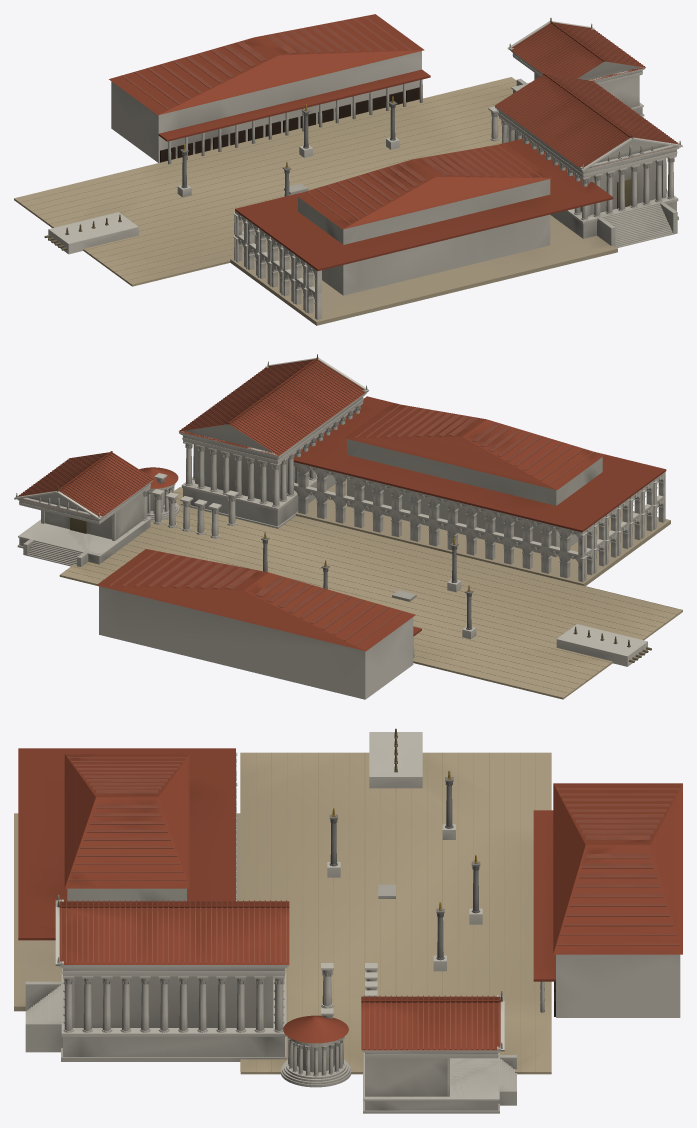
The model's file is roman-forum.glb.
The picture shows the model from 3 angles, top to bottom: view 1: azimuth 30°, elevation 25°; view 2: azimuth 150°, elevation 25°; view 3: azimuth 270°, elevation 25°; orthographic projection. The views are drawn at different scales.
Visible parts, largest first — view 1: p2_roofs, p0_paving, p1_basilicas; view 2: p2_roofs, p0_paving, p1_basilicas; view 3: p0_paving, p2_roofs, p1_basilicas.
Part boxes in pixels (left/top/right/bottom): p2_roofs: left=109, top=14, right=682, bottom=270; p0_paving: left=14, top=77, right=678, bottom=325; p1_basilicas: left=44, top=51, right=676, bottom=319; p2_roofs: left=14, top=354, right=666, bottom=651; p0_paving: left=17, top=474, right=682, bottom=699; p1_basilicas: left=41, top=402, right=665, bottom=699; p0_paving: left=14, top=732, right=551, bottom=1113; p2_roofs: left=18, top=748, right=682, bottom=1058; p1_basilicas: left=63, top=728, right=680, bottom=1096.
Bounding box in the file's own units: 198 × 32.41 × 151.
